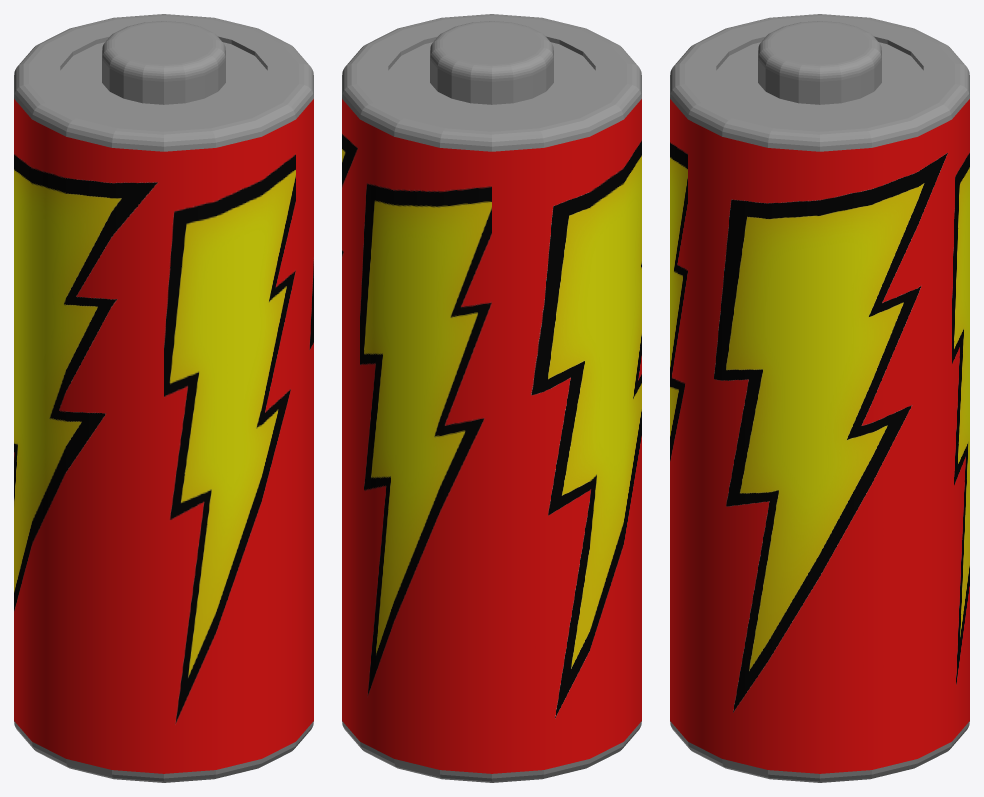
File: pil.FBX
3 renders of one model, left to right at view 1: azimuth 30°, elevation 25°; view 2: azimuth 150°, elevation 25°; view 3: azimuth 270°, elevation 25°, orthographic.
Visible parts, largest first — view 1: Cylinder001; view 2: Cylinder001; view 3: Cylinder001.
Part boxes in pixels (left/top/right/bottom): Cylinder001: left=14, top=14, right=313, bottom=782; Cylinder001: left=342, top=14, right=641, bottom=782; Cylinder001: left=670, top=14, right=969, bottom=782.
Size of the model in its own units: 12.39 by 30.49 by 12.2.
4 materials, 1 textured.
